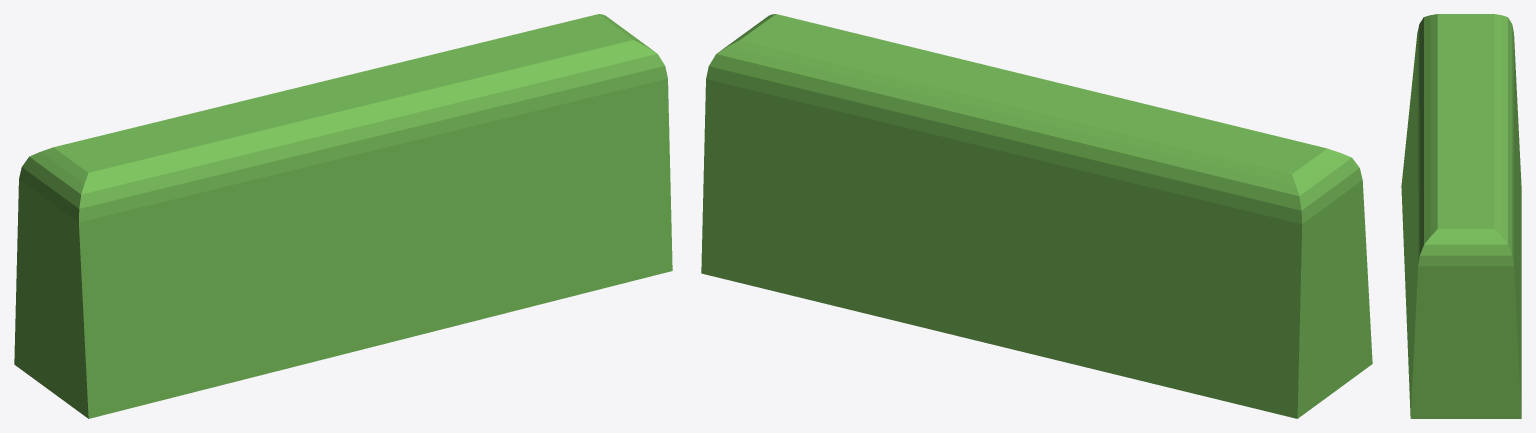
Rendered from O_Enviroment_Hedge_Medium1.fbx.
3 views of the same model, side by side, from view 1: azimuth 30°, elevation 25°; view 2: azimuth 150°, elevation 25°; view 3: azimuth 270°, elevation 25° (orthographic). The views are drawn at different scales.
Parts seen in each view (by area): view 1: pCube2; view 2: pCube2; view 3: pCube2.
Boxes of the visible parts, x1,y1,x2,y2 form: pCube2: (14, 14, 672, 418); pCube2: (701, 14, 1372, 418); pCube2: (1401, 14, 1521, 418).
Size of the model in its own units: 8 by 2.9 by 1.75.
